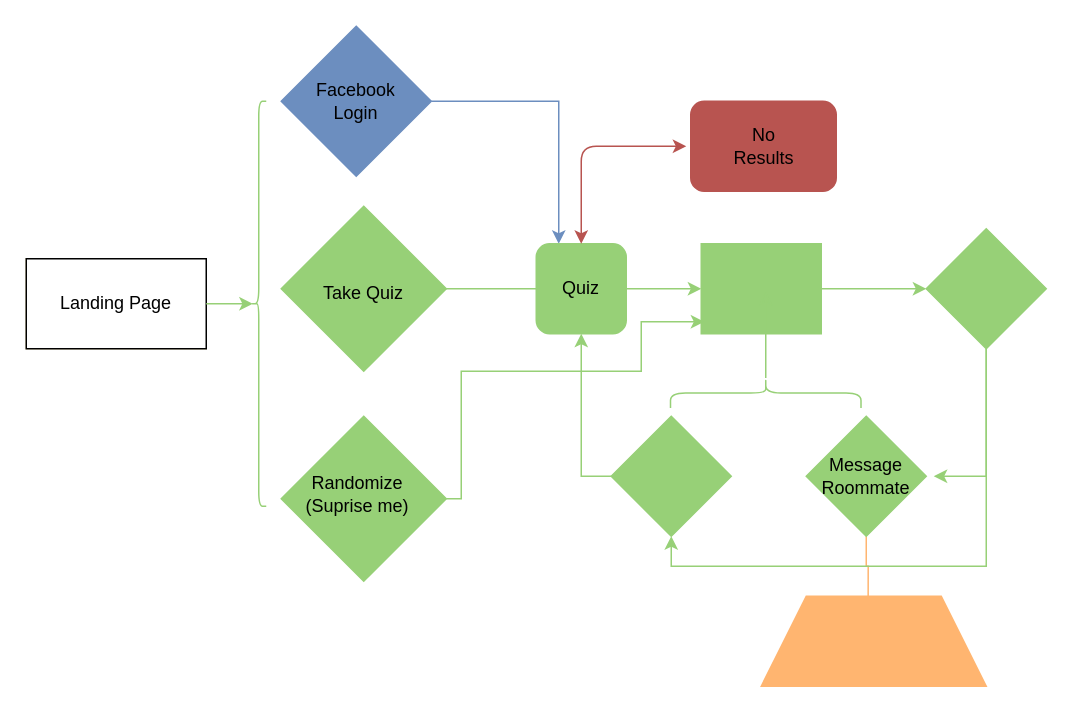
Image size: 1073x713. Some labels were removed from this diagram. Each missing label, with the box of its shape:
More Results: (925, 227, 1046, 349)
Results: (700, 242, 821, 334)
Retake Quiz: (610, 415, 731, 536)
Roomi Homepage: (760, 595, 986, 686)
